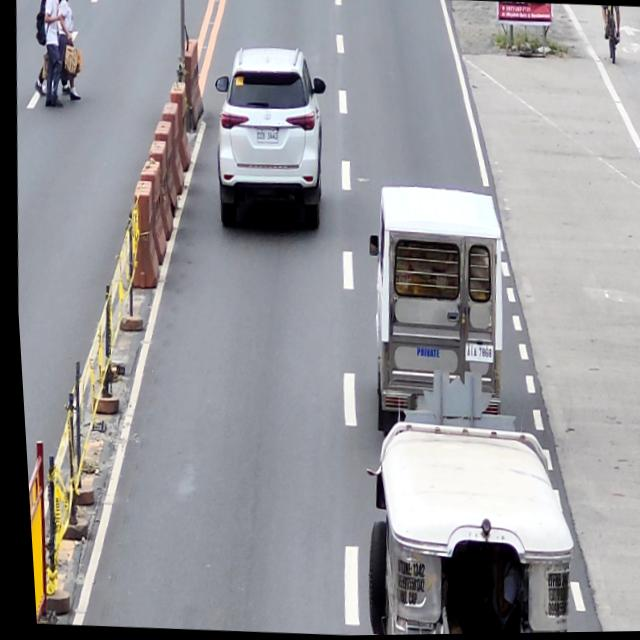Bicycle: (599, 7, 622, 70)
Car: (208, 42, 333, 239)
Jeep: (351, 410, 579, 636), (354, 180, 515, 452)
License-Plate: (460, 345, 490, 364), (254, 130, 278, 146)
